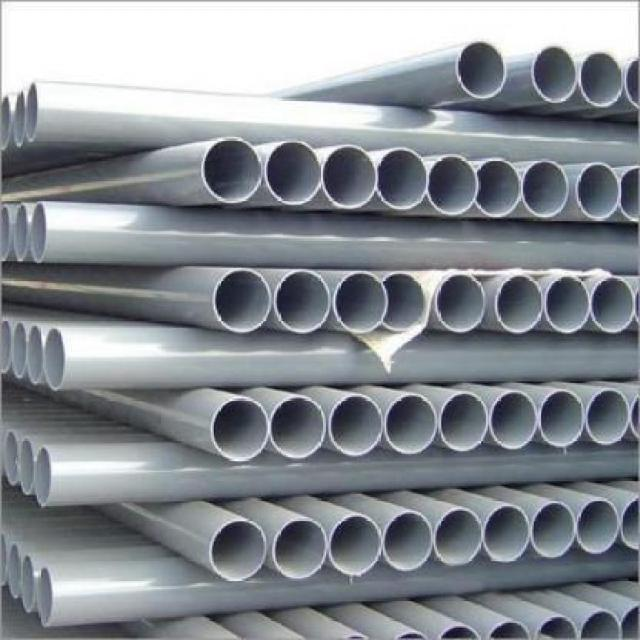pipe: (201, 137, 263, 203), (213, 269, 272, 334), (211, 397, 270, 462), (265, 140, 322, 206), (273, 270, 330, 333), (269, 396, 326, 459), (209, 519, 266, 581), (322, 146, 378, 209), (272, 517, 328, 580), (332, 273, 388, 333), (329, 395, 383, 457), (376, 147, 429, 210), (427, 155, 480, 217), (385, 393, 438, 455), (329, 515, 382, 577), (436, 273, 487, 333), (382, 511, 433, 571), (456, 41, 507, 100), (439, 392, 488, 452), (494, 275, 543, 333), (522, 159, 570, 218), (490, 391, 538, 450), (434, 508, 482, 566), (540, 389, 586, 449), (483, 505, 529, 564), (476, 159, 521, 219), (544, 275, 590, 333), (532, 45, 578, 103), (576, 163, 622, 220), (382, 272, 425, 332), (590, 276, 635, 333), (585, 389, 630, 446), (531, 502, 576, 559), (575, 498, 620, 554), (579, 52, 624, 108), (44, 327, 66, 392), (578, 610, 623, 639), (533, 616, 578, 639), (37, 568, 54, 627), (31, 202, 47, 264), (27, 326, 43, 386), (18, 436, 34, 496), (35, 448, 51, 508), (4, 429, 20, 486), (26, 81, 40, 143), (21, 553, 35, 613), (12, 321, 26, 380), (15, 203, 28, 263), (8, 543, 21, 600), (13, 91, 26, 148)
